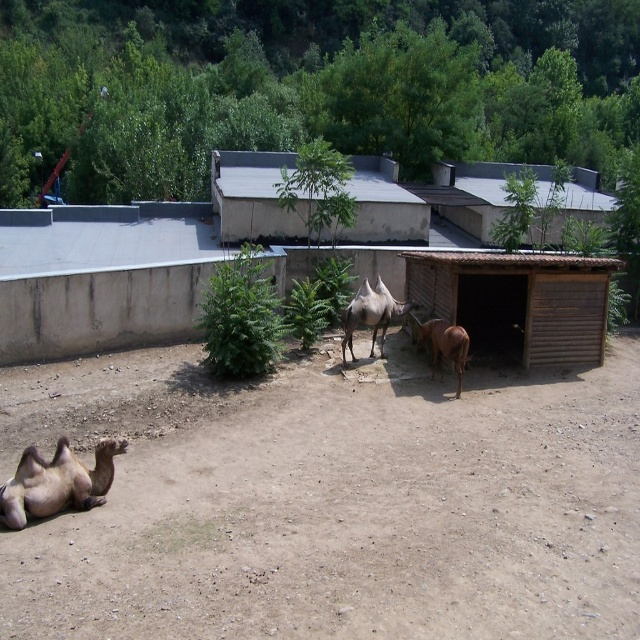Camel: (0, 438, 130, 530), (342, 278, 425, 366)
